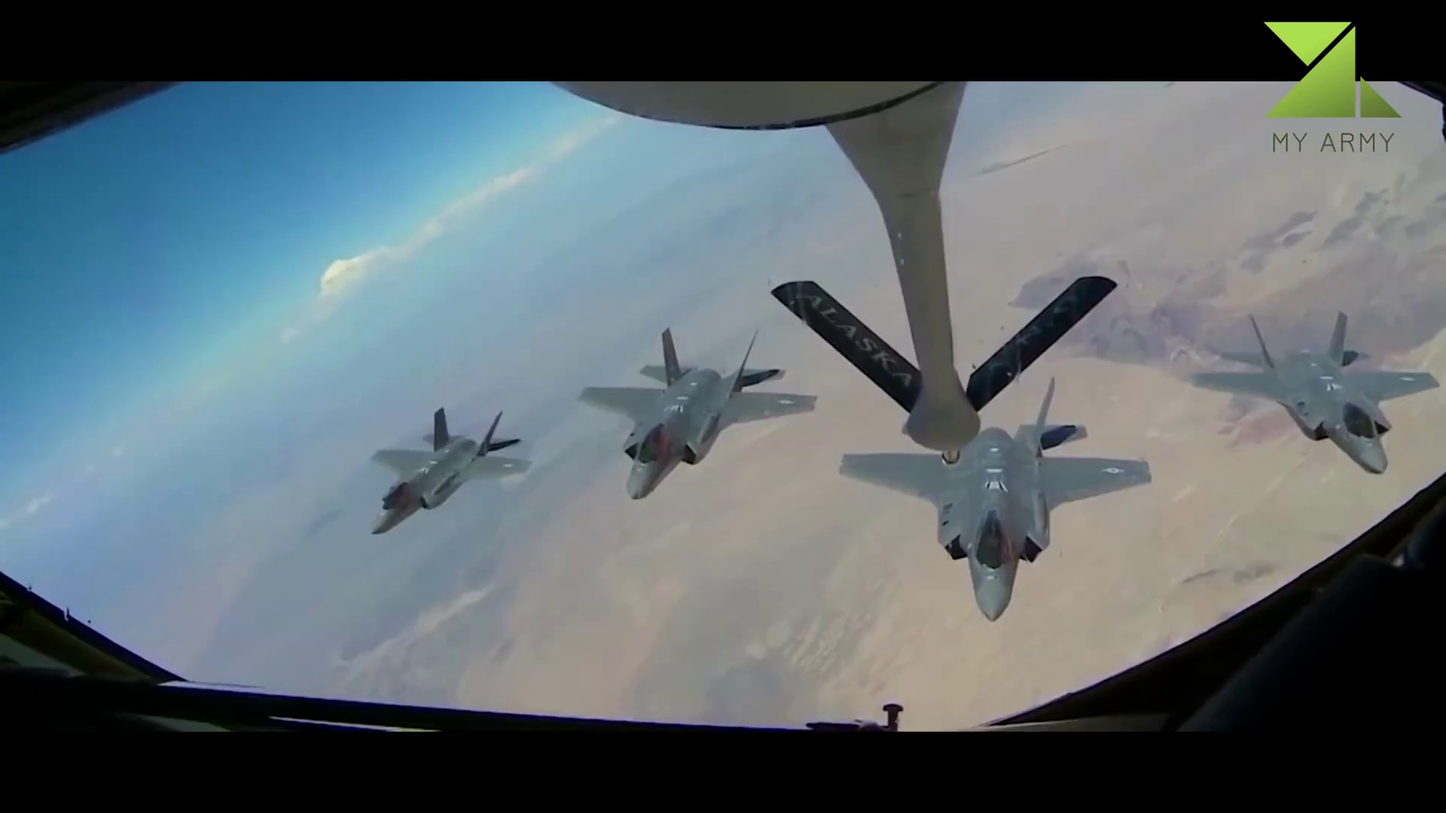F35: (836, 372, 1157, 628), (1175, 297, 1440, 479), (572, 318, 820, 503), (359, 396, 532, 538)
